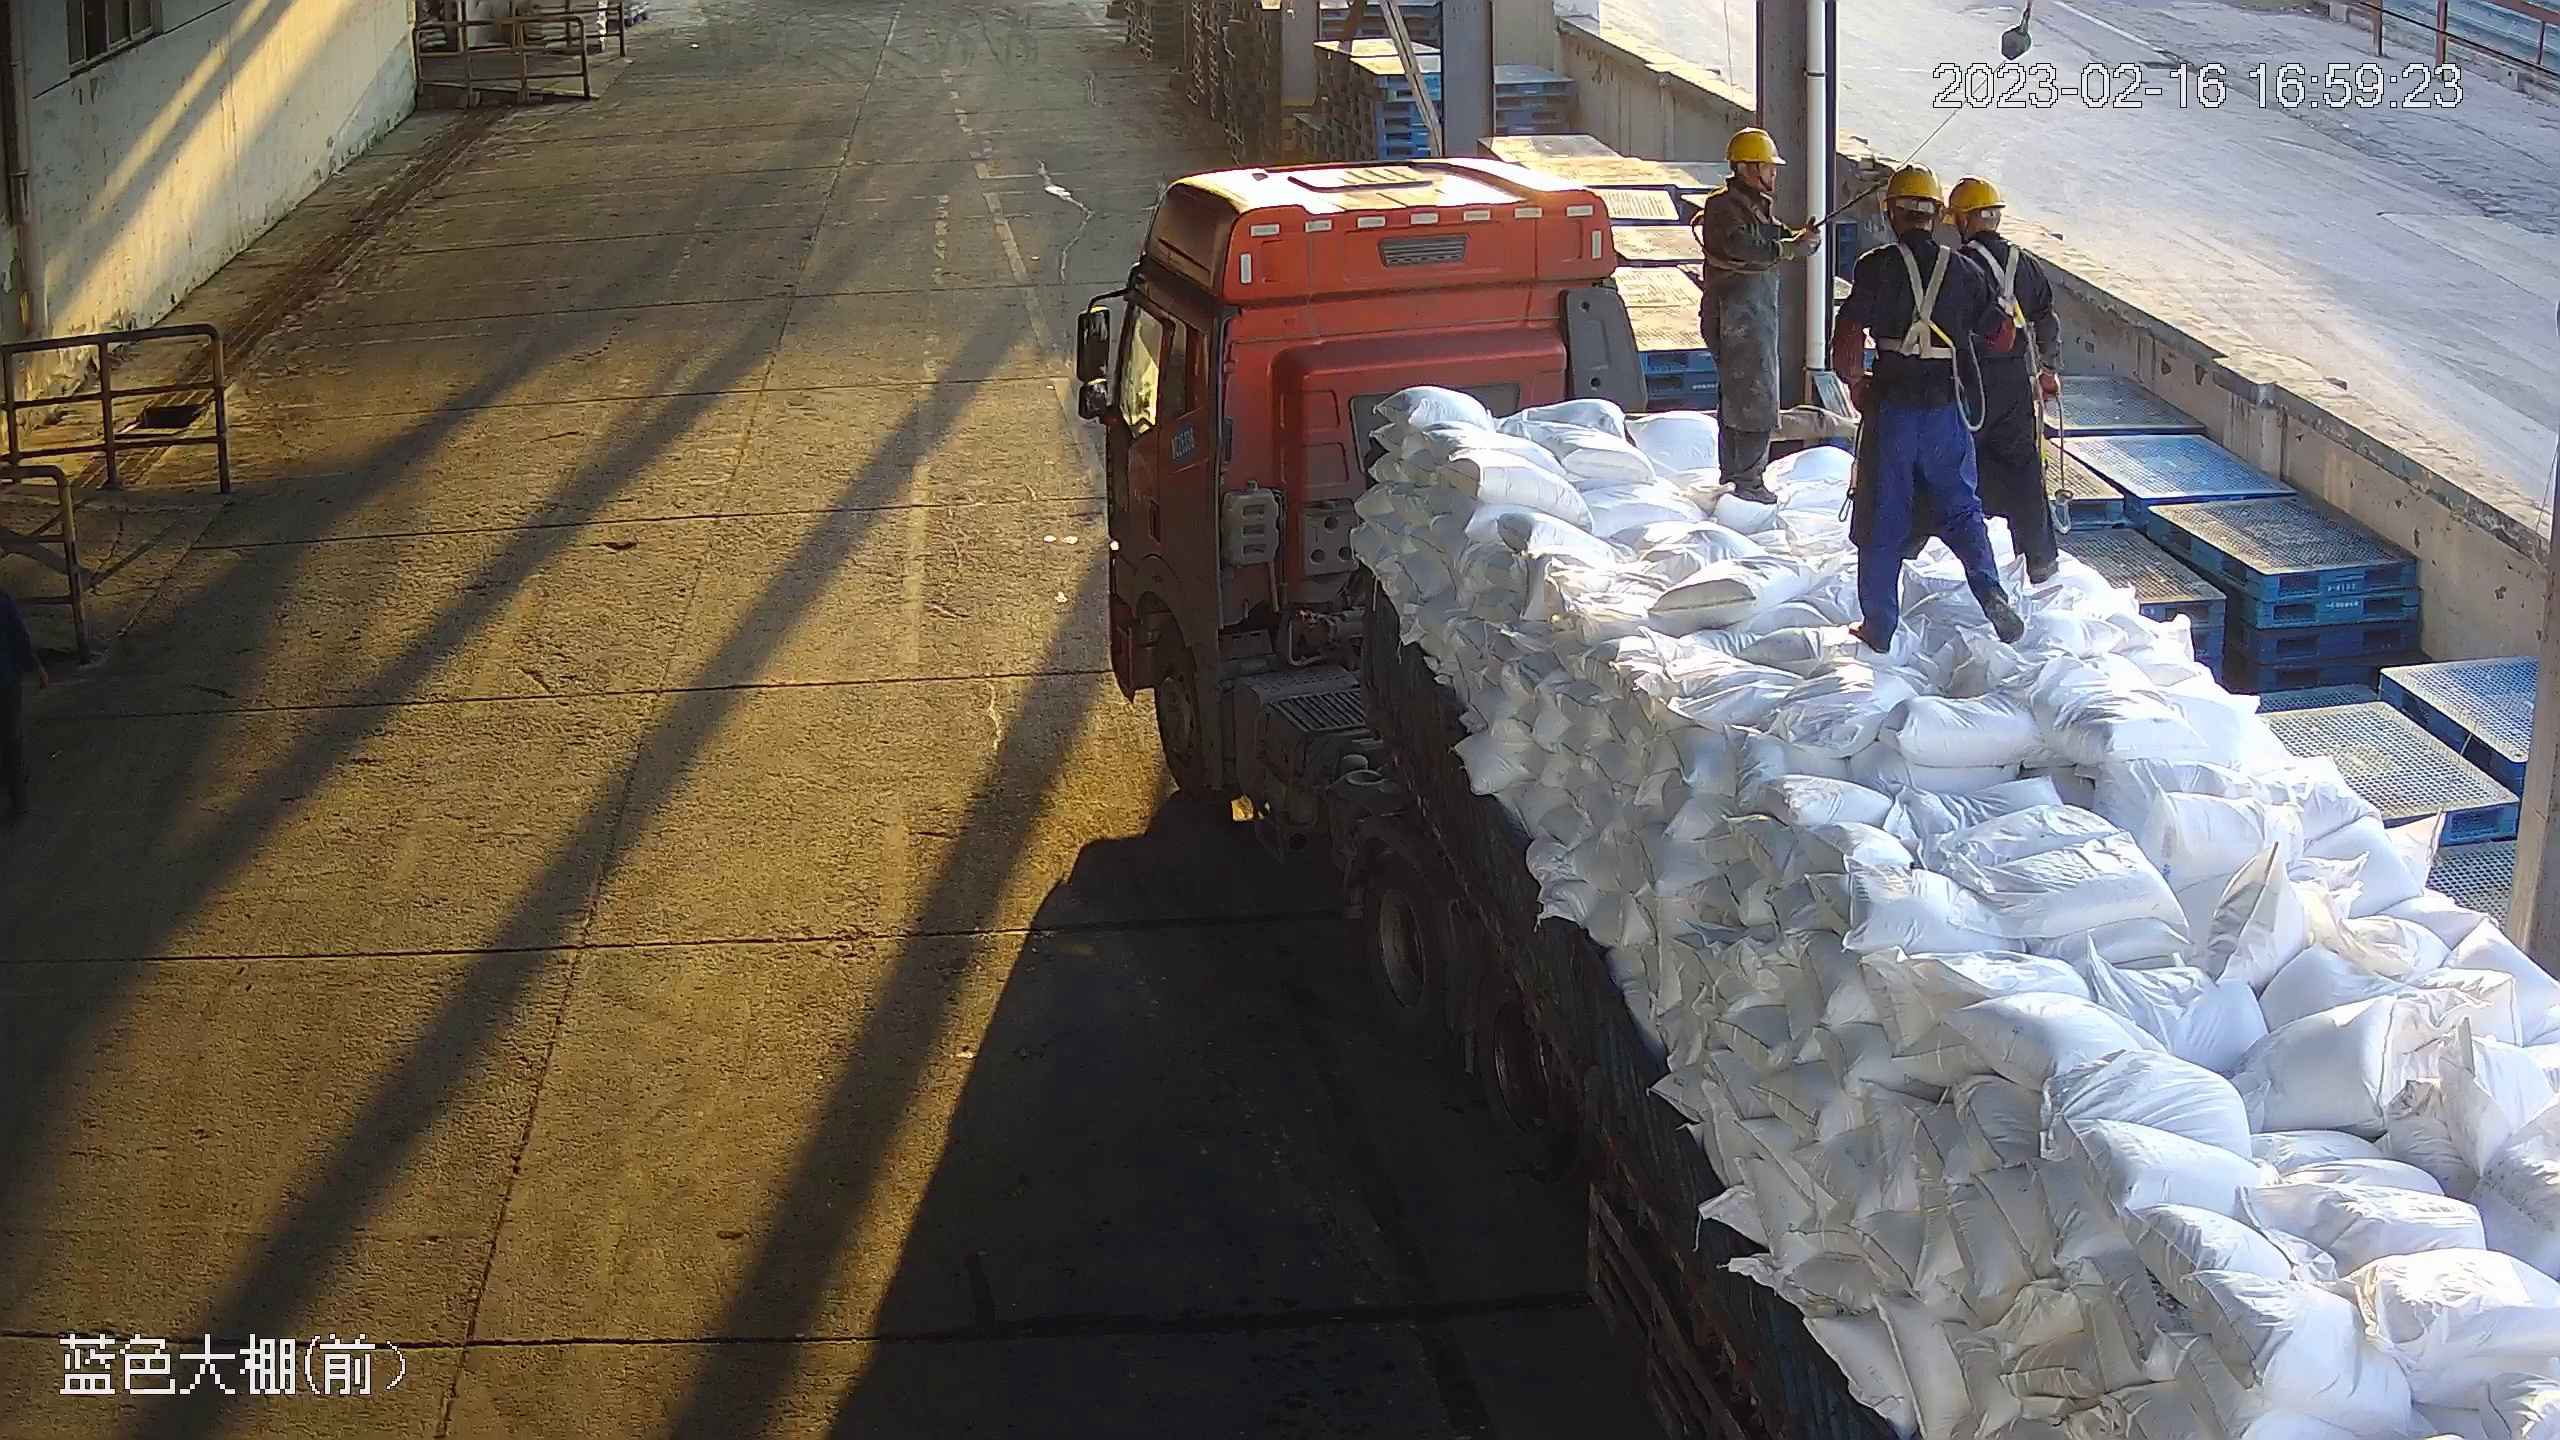belt: (1883, 243, 1993, 358), (1966, 241, 2046, 333), (1734, 197, 1788, 257)
head: (1853, 165, 1977, 283), (1695, 127, 1795, 230), (1955, 179, 2041, 290)
helmet: (1948, 174, 2006, 216), (1883, 165, 1939, 204), (1728, 130, 1781, 167)
people: (1835, 167, 2032, 660), (1944, 172, 2072, 599), (1695, 127, 1825, 508)
truck: (1063, 127, 2560, 1440)
